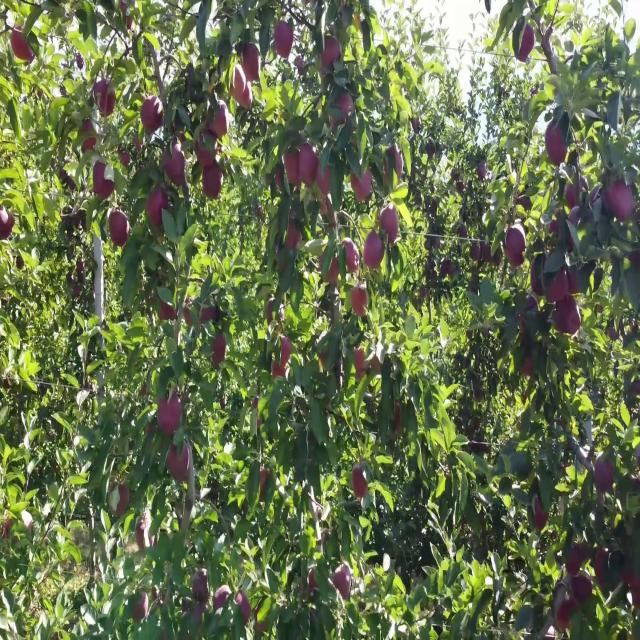apple: (608, 184, 636, 222), (164, 142, 187, 187), (552, 270, 580, 306), (556, 298, 581, 336), (92, 78, 116, 117), (148, 191, 171, 231), (160, 398, 184, 436), (140, 99, 165, 135), (300, 142, 320, 185), (332, 561, 352, 603), (508, 227, 528, 268), (168, 440, 191, 475), (560, 298, 581, 336), (108, 213, 130, 249), (548, 270, 570, 306), (12, 28, 35, 62), (232, 71, 252, 110), (380, 206, 400, 244), (204, 163, 224, 201), (364, 234, 385, 270), (136, 519, 158, 553), (548, 127, 568, 164), (276, 21, 295, 59), (96, 163, 116, 199), (384, 149, 404, 185), (112, 483, 132, 519), (352, 170, 373, 204), (196, 135, 217, 169), (624, 568, 640, 612), (208, 106, 228, 140), (336, 92, 355, 126), (244, 42, 260, 82), (596, 462, 616, 494), (596, 547, 610, 592), (320, 255, 340, 286), (572, 575, 593, 604), (284, 220, 303, 251), (548, 277, 568, 306), (0, 206, 16, 242), (236, 590, 252, 626), (520, 28, 536, 64), (556, 604, 575, 633), (352, 284, 368, 318), (12, 28, 29, 59), (324, 35, 342, 64), (352, 469, 368, 500), (316, 163, 332, 194), (344, 241, 359, 274), (268, 298, 285, 327), (192, 575, 209, 604), (212, 334, 228, 364), (536, 497, 549, 533), (284, 156, 300, 185), (568, 547, 584, 576), (84, 120, 97, 155), (568, 184, 585, 210), (132, 597, 149, 622), (320, 199, 335, 226), (356, 348, 369, 379), (240, 79, 252, 112), (280, 334, 292, 363), (196, 597, 208, 626), (200, 305, 217, 325), (216, 590, 231, 612), (120, 7, 134, 30), (116, 149, 132, 169), (260, 469, 269, 503), (160, 305, 177, 322), (320, 199, 333, 220), (520, 355, 532, 377), (256, 611, 268, 633), (532, 277, 544, 299), (272, 362, 287, 379), (396, 405, 404, 436), (472, 241, 483, 263), (72, 277, 83, 299), (308, 568, 318, 590), (120, 149, 131, 169), (372, 355, 383, 375), (184, 305, 193, 329), (548, 220, 560, 236), (296, 56, 305, 76), (484, 241, 492, 263), (24, 49, 35, 64), (516, 199, 531, 210), (480, 163, 488, 183), (324, 49, 332, 68), (276, 170, 284, 188), (444, 263, 454, 277), (80, 263, 87, 283), (528, 298, 538, 311), (24, 519, 33, 533), (320, 355, 328, 370), (632, 383, 640, 398), (76, 56, 85, 69), (476, 391, 484, 405), (460, 227, 468, 240), (632, 255, 640, 268), (148, 426, 158, 434)
